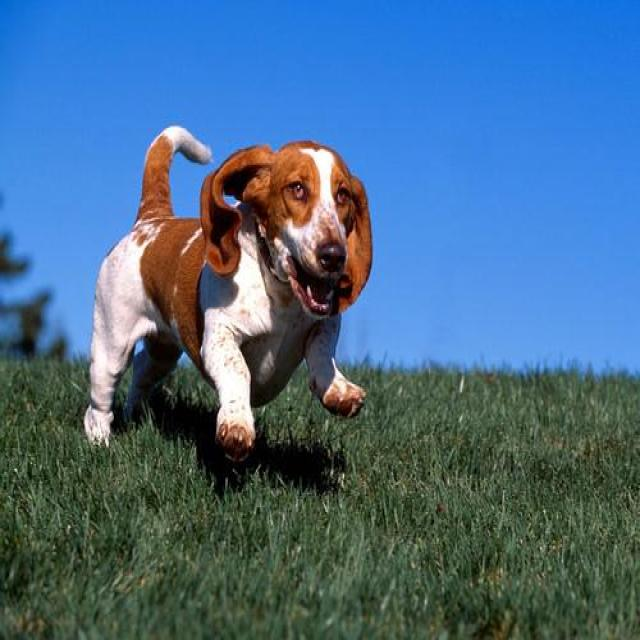basset: (79, 123, 379, 456)
